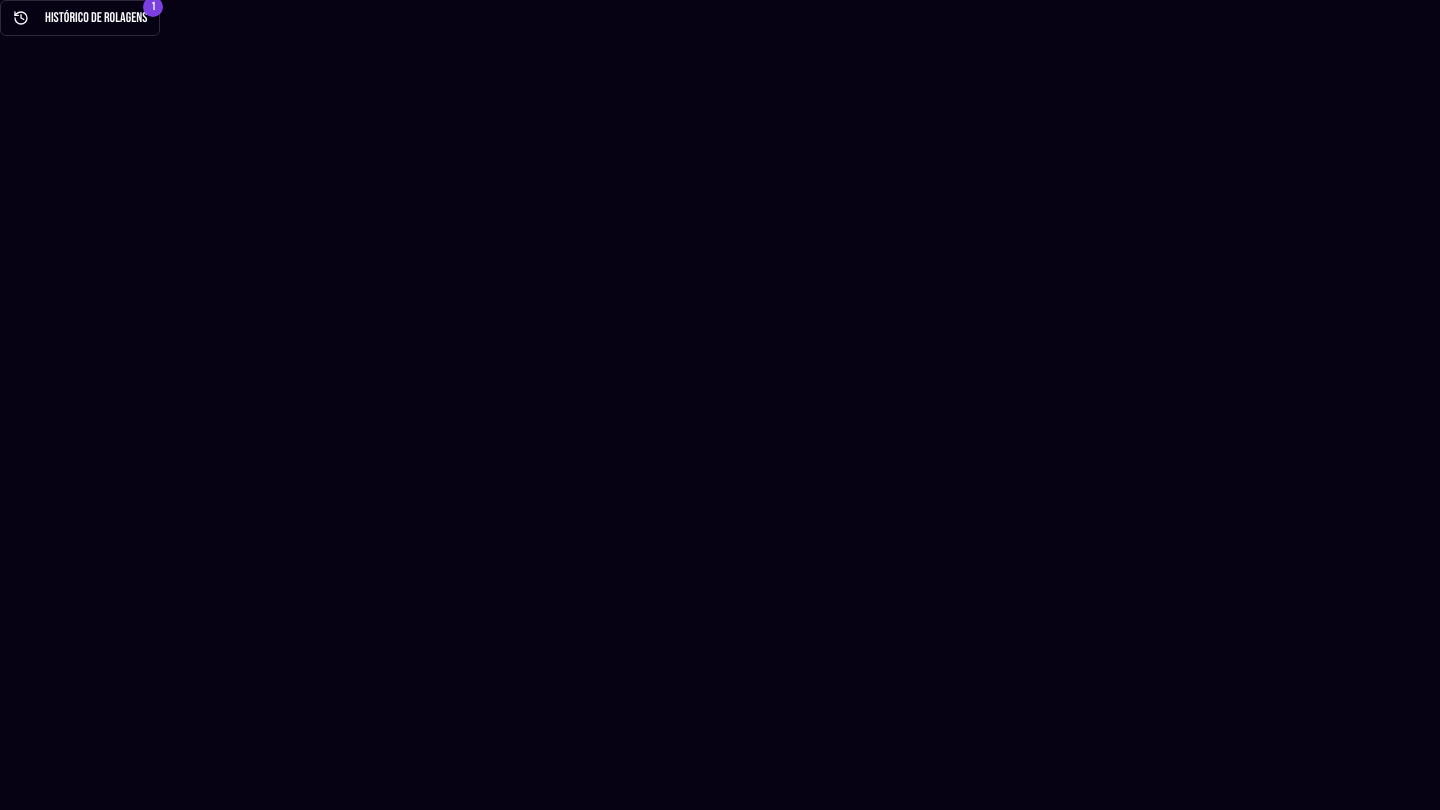
Scenario: detalhamento do histórico › explica o total com perícia e outros bônus, incluindo negativos
Step 1. Click the button "HISTÓRICO DE ROLAGENS 1" → (80, 18), box 0,0 -> 160,36
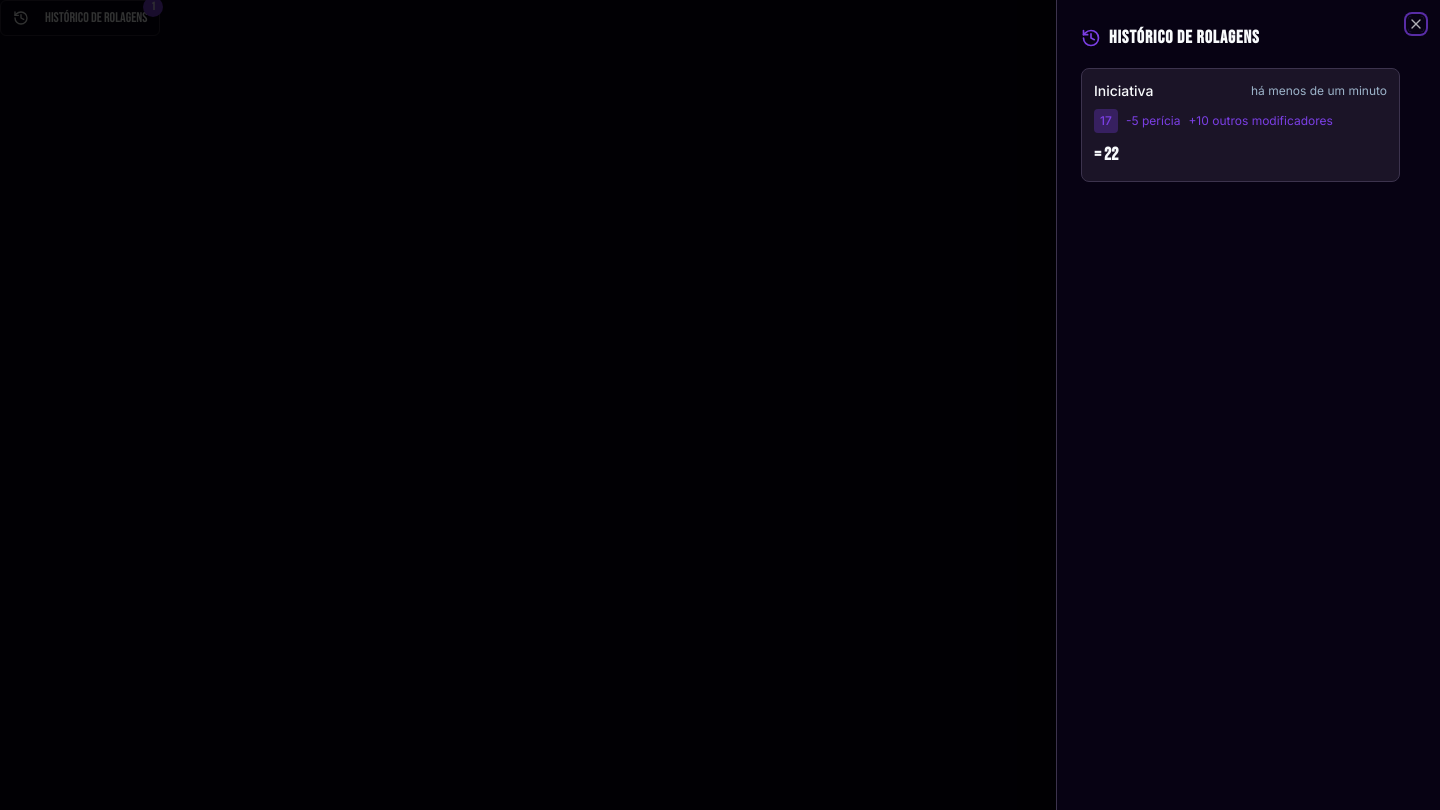
Now the text "-5 perícia" is shown, box 1126,113 -> 1180,129
Now the text "+10 outros modificadores" is shown, box 1188,113 -> 1333,129
Now the text "= 22" is shown, box 1094,141 -> 1118,169
